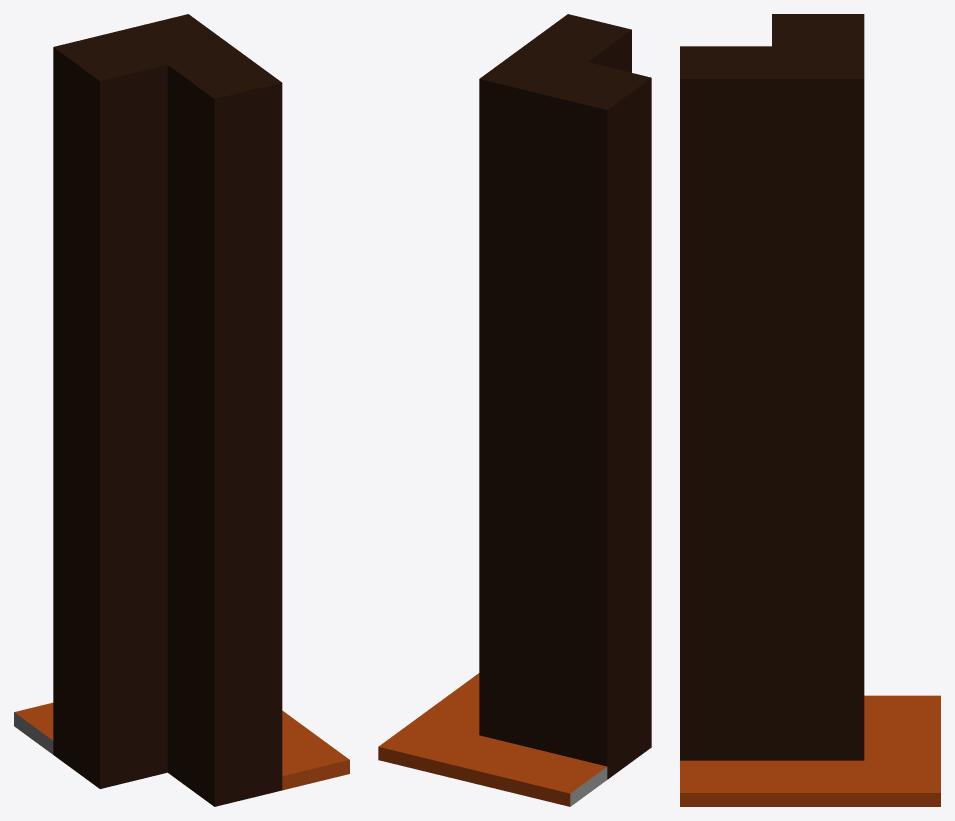
File: WallCornerDetail.FBX
The picture shows the model from 3 angles, left to right: view 1: azimuth 30°, elevation 25°; view 2: azimuth 150°, elevation 25°; view 3: azimuth 270°, elevation 25°; orthographic projection. The views are drawn at different scales.
Parts seen in each view (by area): view 1: CornerDetail; view 2: CornerDetail; view 3: CornerDetail.
Part boxes in pixels (x1,y1,x2,y2): CornerDetail: [14, 14, 349, 806]; CornerDetail: [378, 14, 651, 806]; CornerDetail: [680, 14, 940, 806].
Size of the model in its own units: 0.75 by 2.5 by 0.85.
